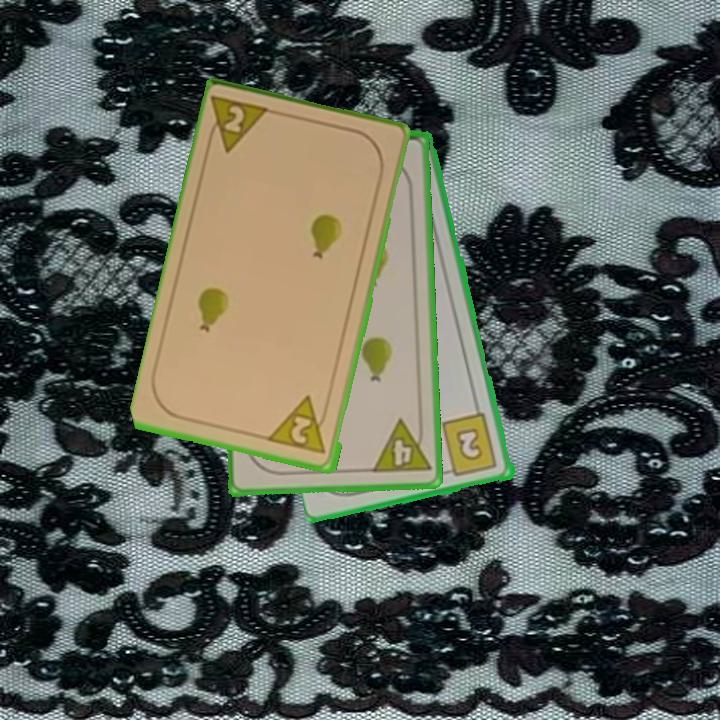2b: (438, 410, 501, 480)
2p: (203, 92, 276, 157), (267, 393, 331, 458)
4p: (368, 415, 433, 477)
